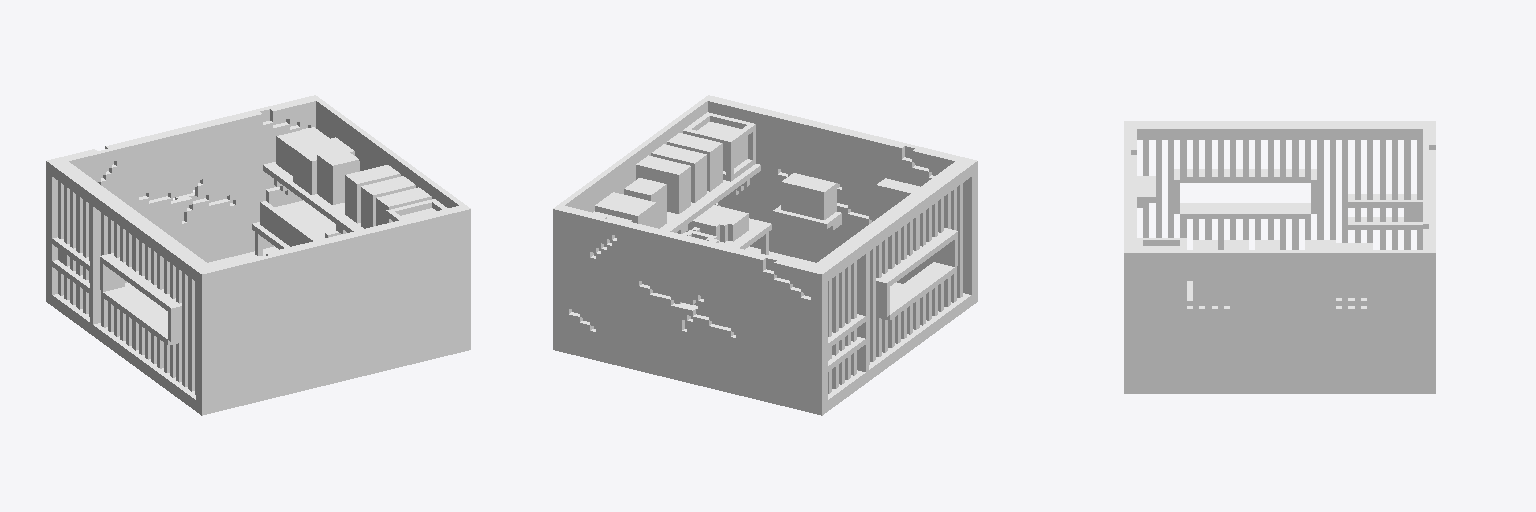
Rendered from Shop_Cell_Block.obj.
3 renders of one model, left to right at view 1: azimuth 30°, elevation 25°; view 2: azimuth 150°, elevation 25°; view 3: azimuth 270°, elevation 25°, orthographic.
Bounding box in the file's own units: 51 × 25 × 50.